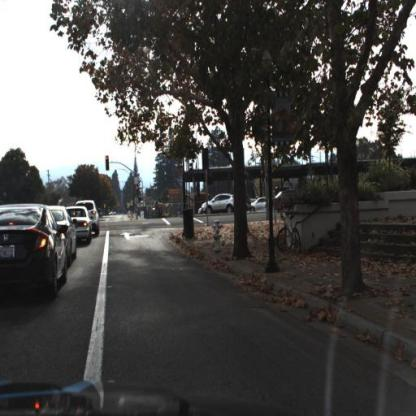car: (2, 205, 68, 312), (50, 204, 79, 269), (69, 204, 94, 251), (78, 199, 102, 240), (76, 198, 101, 237), (202, 196, 235, 219), (253, 195, 268, 216)
trafficLight-Red: (106, 157, 111, 173), (137, 186, 140, 196)
